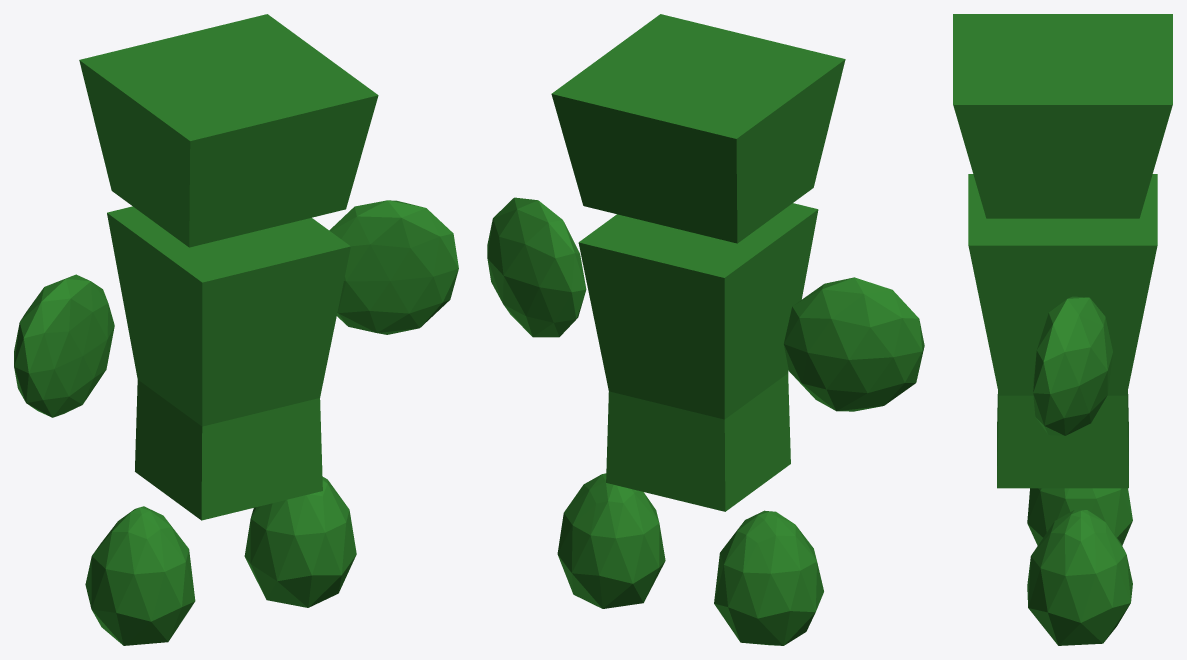
Rendered from Soldier.fbx.
3 renders of one model, left to right at view 1: azimuth 30°, elevation 25°; view 2: azimuth 150°, elevation 25°; view 3: azimuth 270°, elevation 25°, orthographic.
Visible parts, largest first — view 1: Soldier; view 2: Soldier; view 3: Soldier.
Boxes of the visible parts, x1,y1,x2,y2 form: Soldier: (14, 14, 458, 645); Soldier: (487, 14, 924, 645); Soldier: (953, 14, 1172, 645).
Bounding box in the file's own units: 116 × 50.26 × 138.
